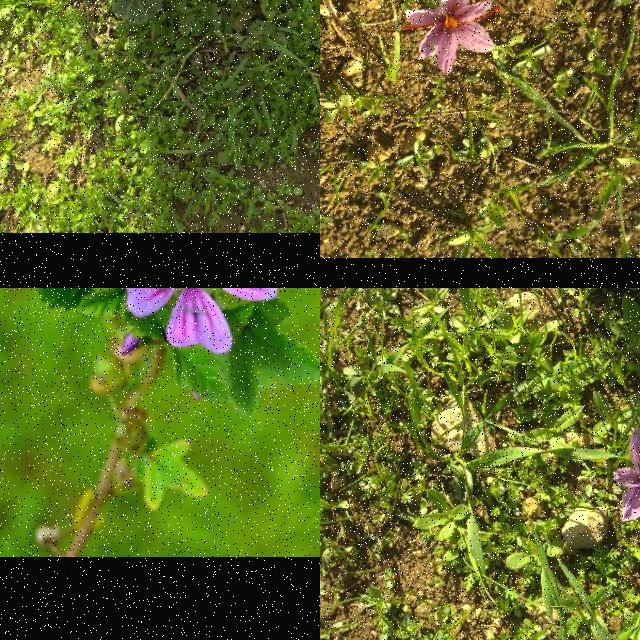flower: (403, 0, 503, 76), (612, 428, 640, 521)
